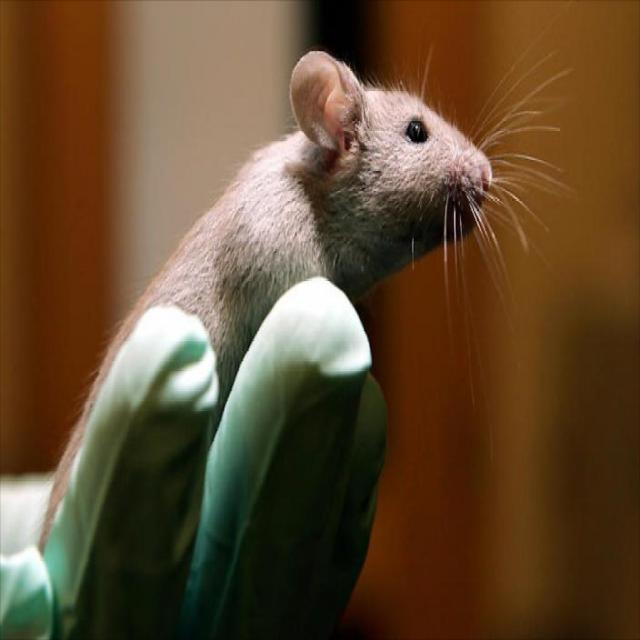rat: (36, 18, 574, 561)
